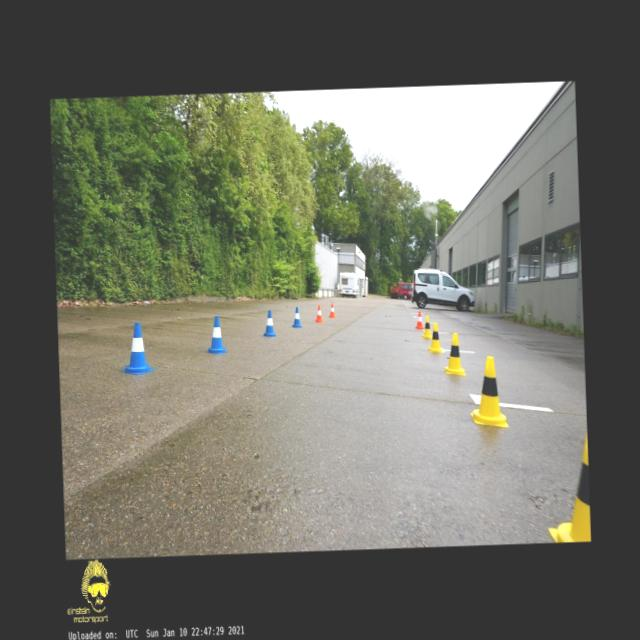blue_cone: (119, 322, 154, 376), (205, 315, 228, 354), (262, 310, 276, 337), (292, 306, 302, 328)
orange_cone: (314, 304, 323, 322), (414, 310, 423, 328), (328, 303, 335, 317)
yellow_cone: (544, 426, 590, 542), (468, 355, 508, 429), (442, 332, 464, 376), (426, 322, 443, 352), (422, 316, 432, 338)
